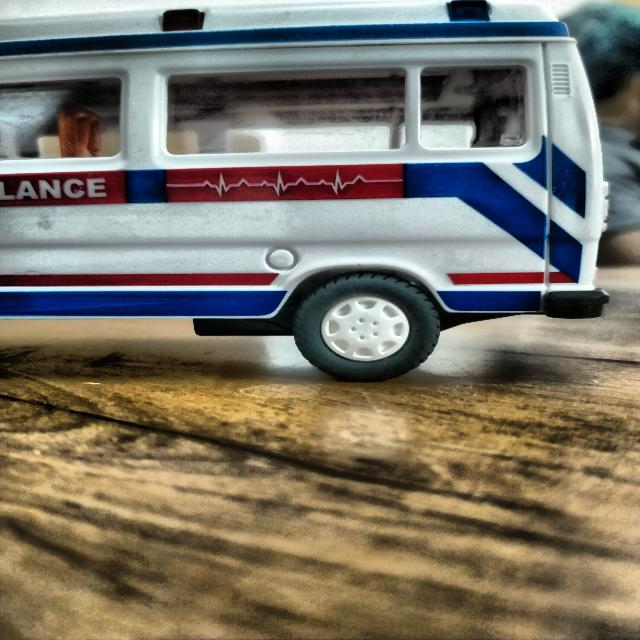Ambulance: (8, 0, 615, 388)
